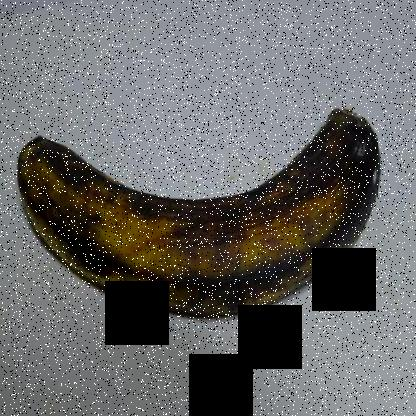overripe: (17, 75, 389, 324)
rotten: (296, 87, 394, 209)
